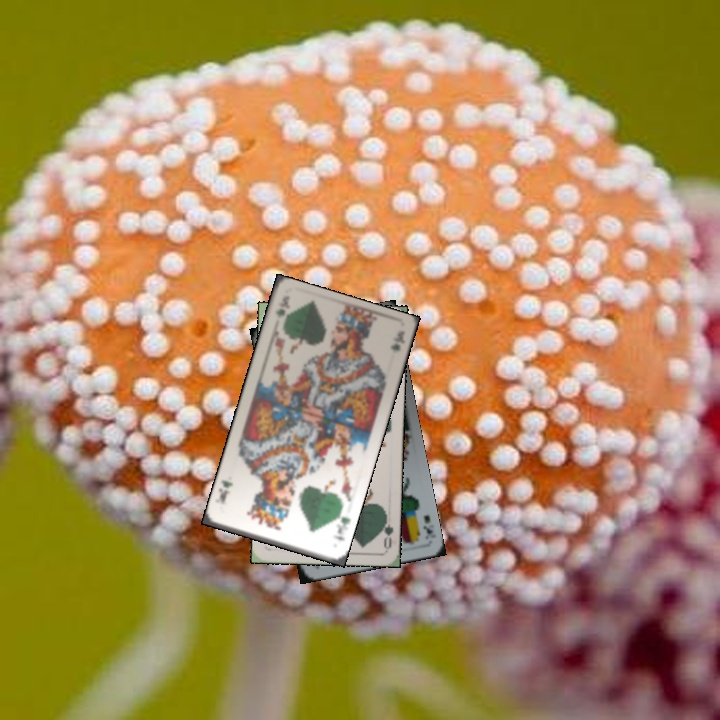EK: (419, 511, 438, 542)
GK: (329, 506, 353, 543), (272, 293, 292, 320)
GO: (376, 509, 396, 550)
